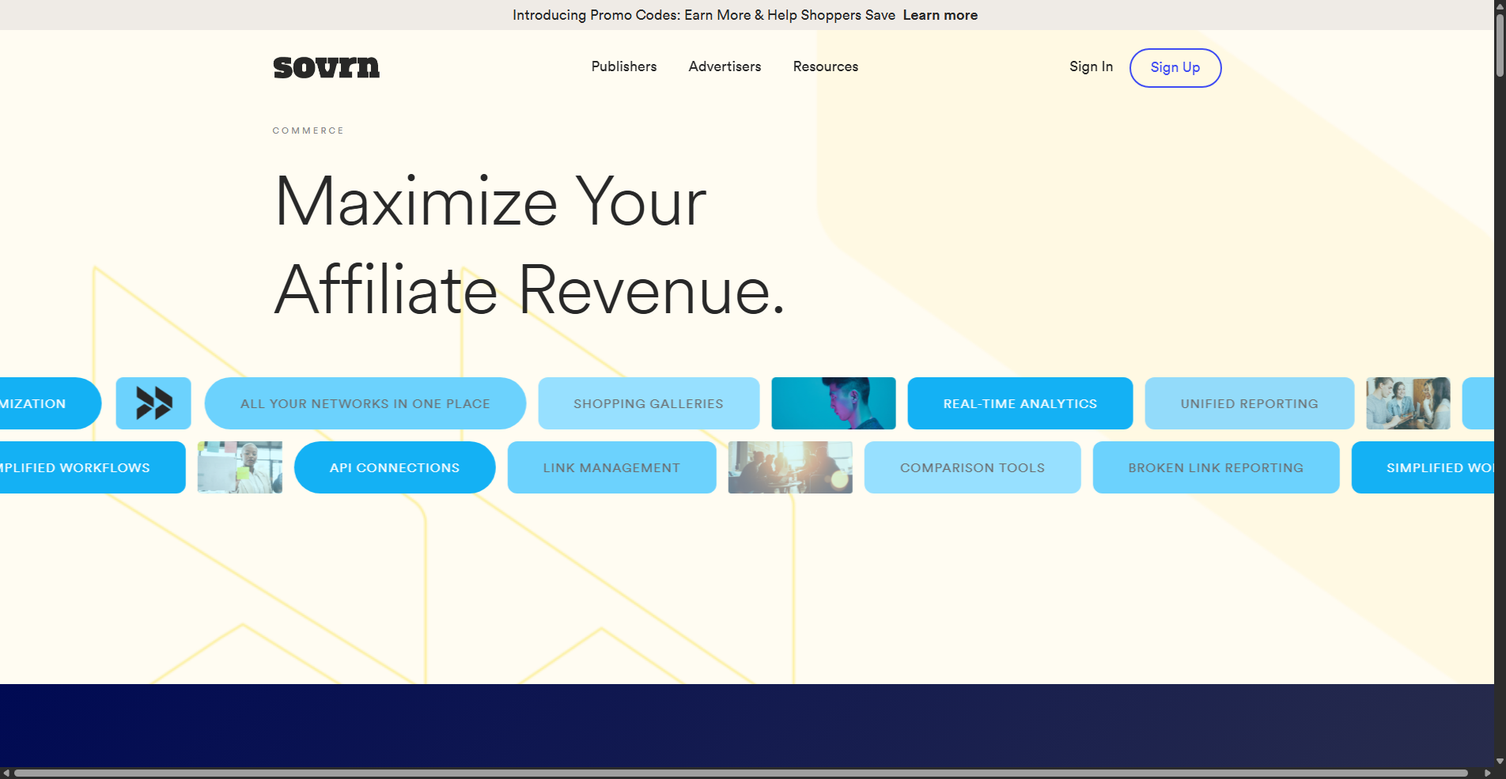button: (272, 56, 380, 79)
link: (0, 0, 1494, 30), (1129, 48, 1222, 88), (272, 56, 380, 79), (689, 57, 761, 78), (591, 57, 657, 78), (793, 57, 859, 78), (1070, 57, 1113, 78)
menu_item: (0, 0, 1494, 30), (1129, 48, 1222, 88), (689, 57, 761, 78), (591, 57, 657, 78), (793, 57, 859, 78), (1070, 57, 1113, 78)
